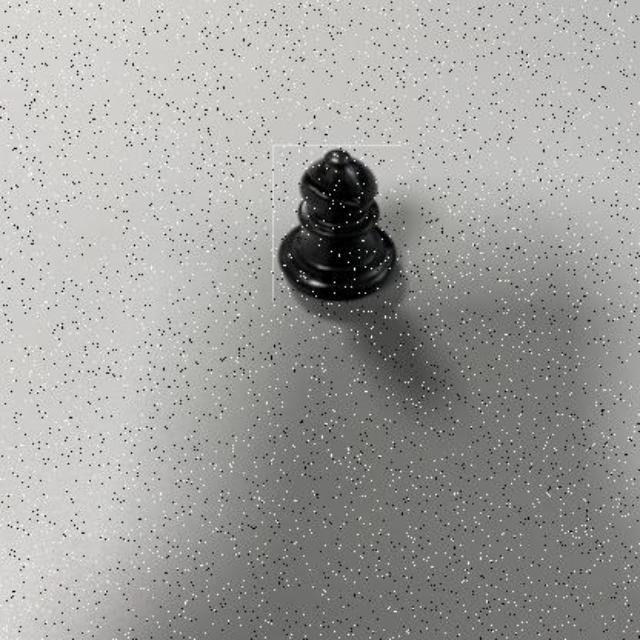black-bishop: (273, 145, 403, 303)
